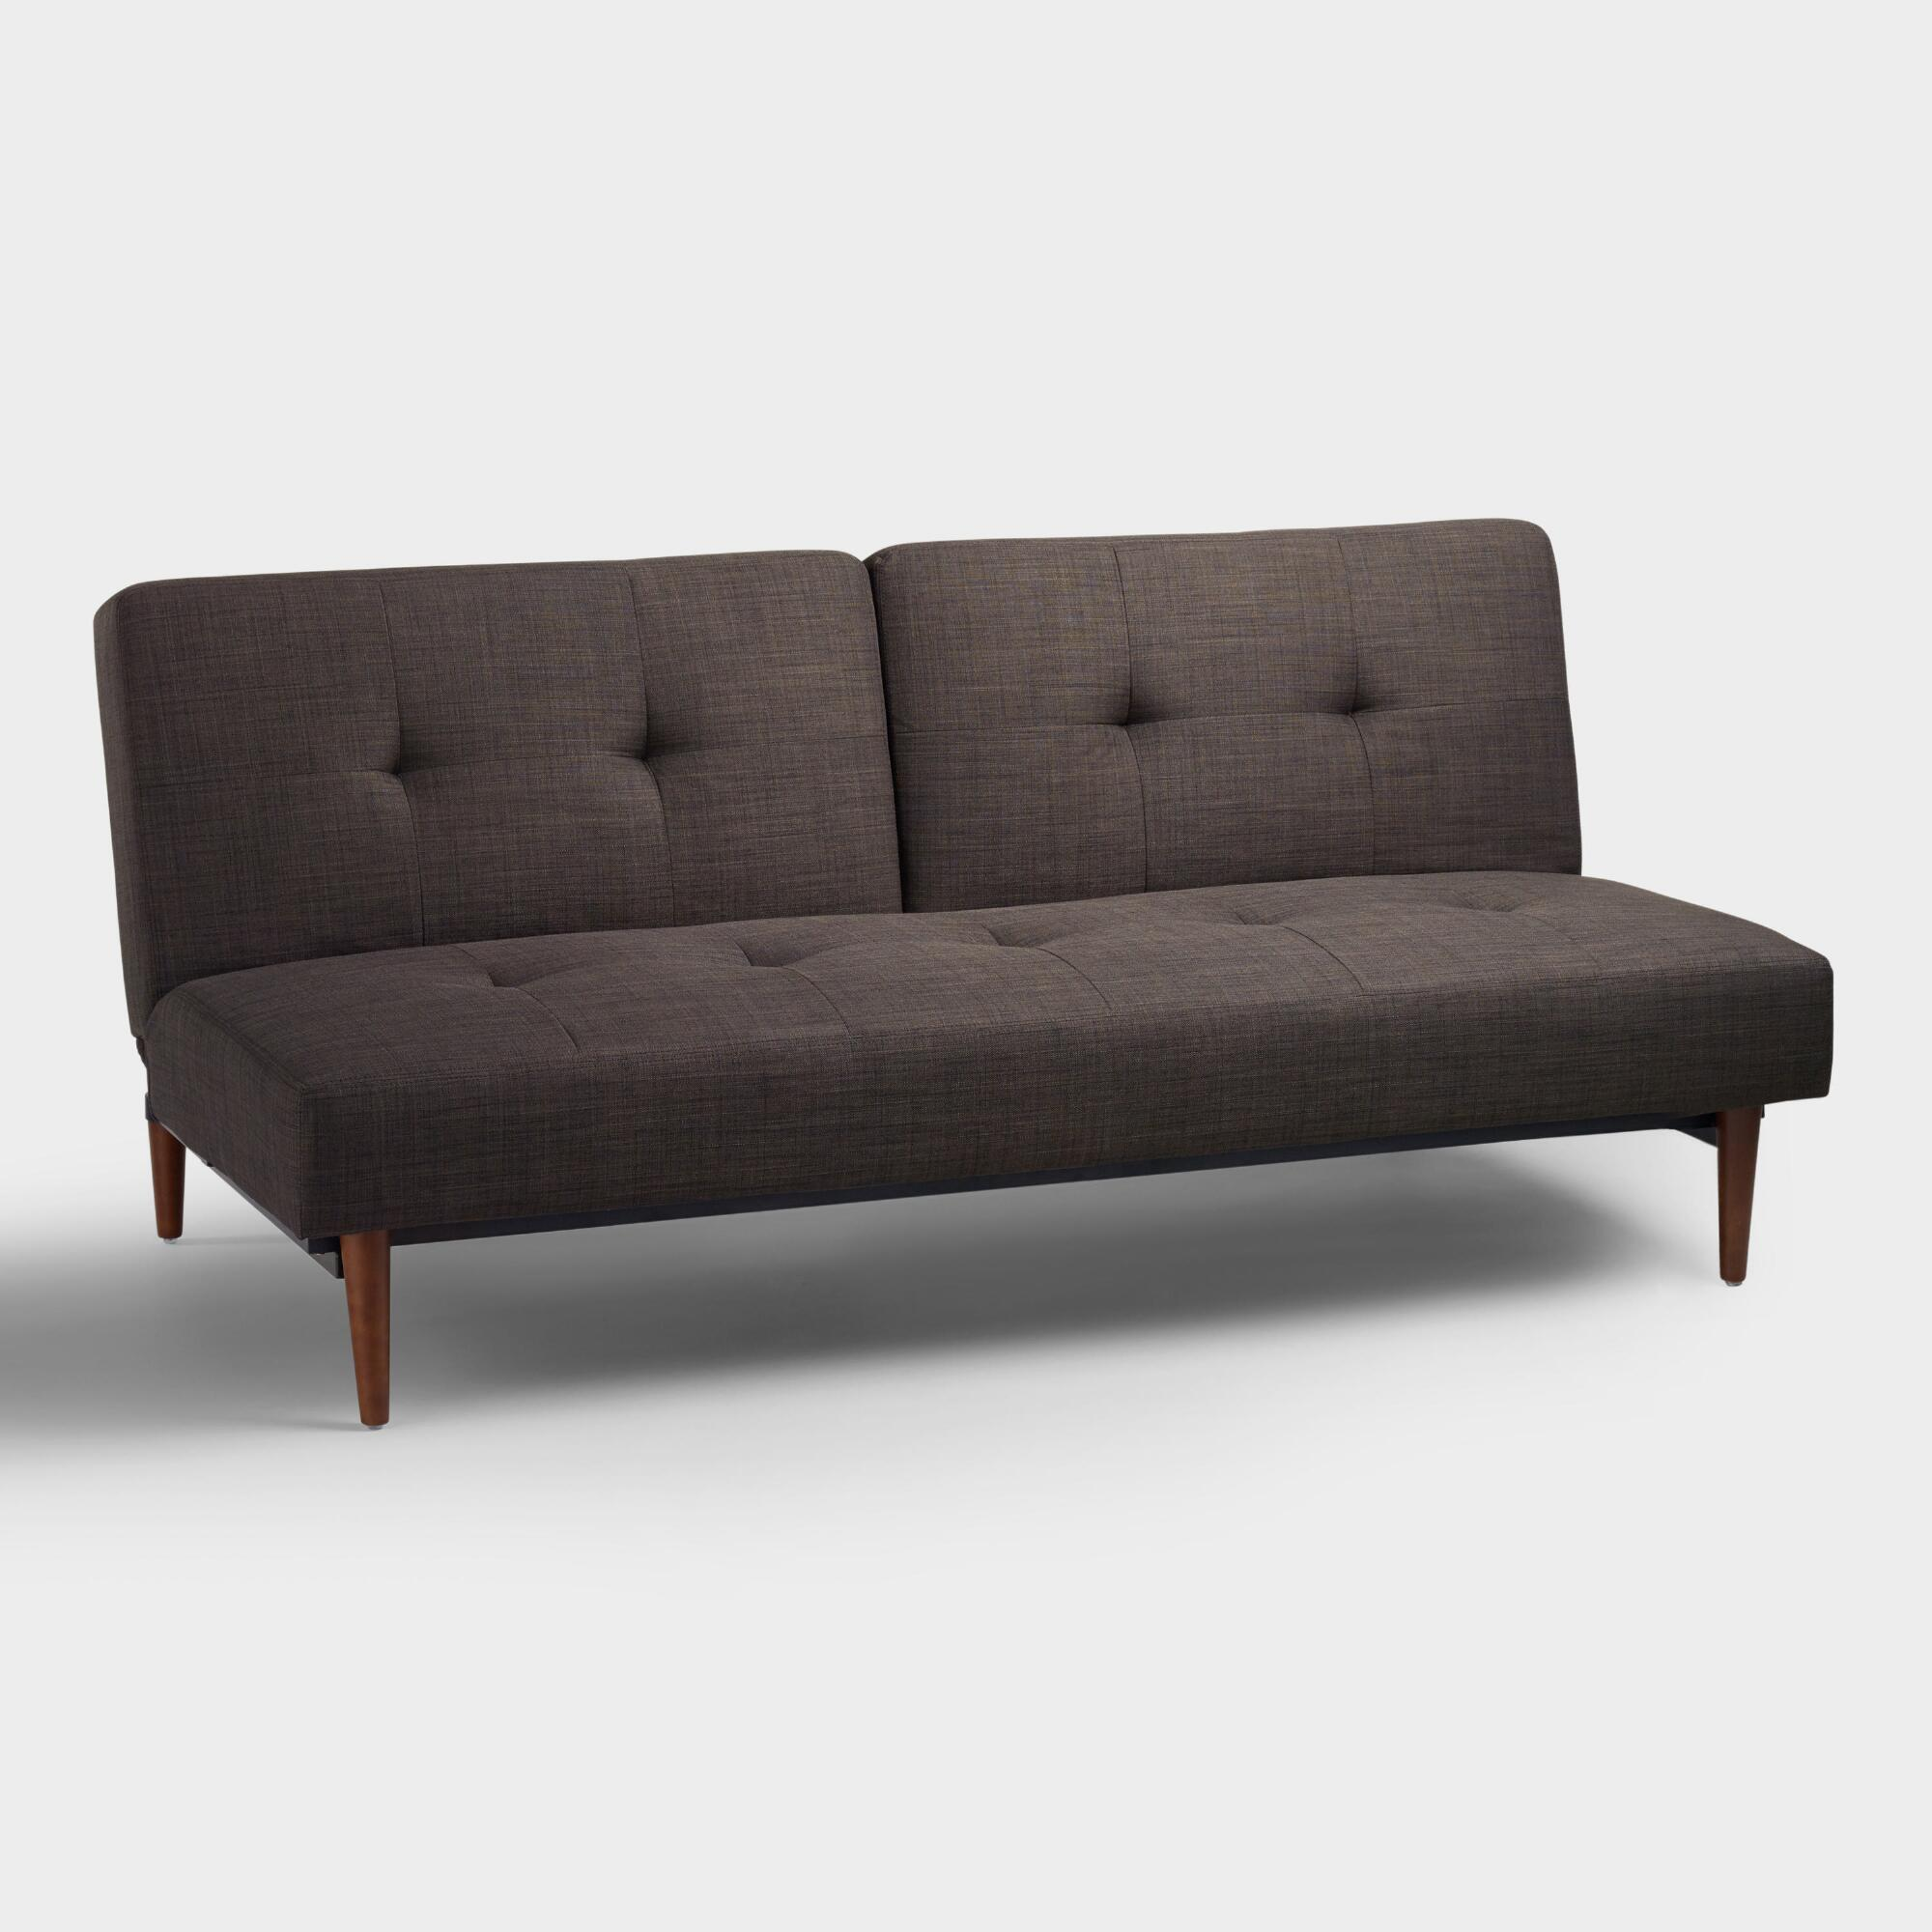chairs: (60, 508, 1844, 1433)
